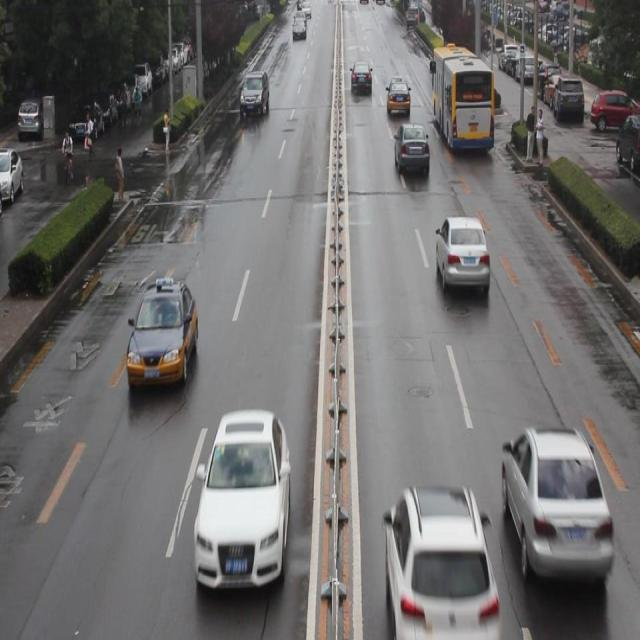car: (383, 483, 497, 640), (502, 426, 612, 586), (193, 407, 288, 592), (128, 279, 196, 391), (436, 216, 487, 294), (394, 124, 429, 179), (386, 80, 408, 118)
truck: (239, 74, 270, 118)
van: (432, 45, 494, 151)
